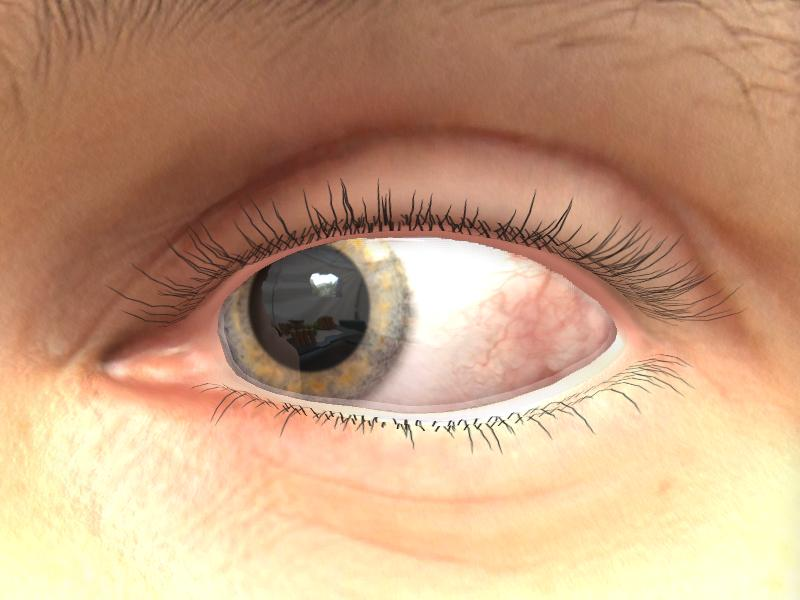eye: (215, 239, 415, 407)
